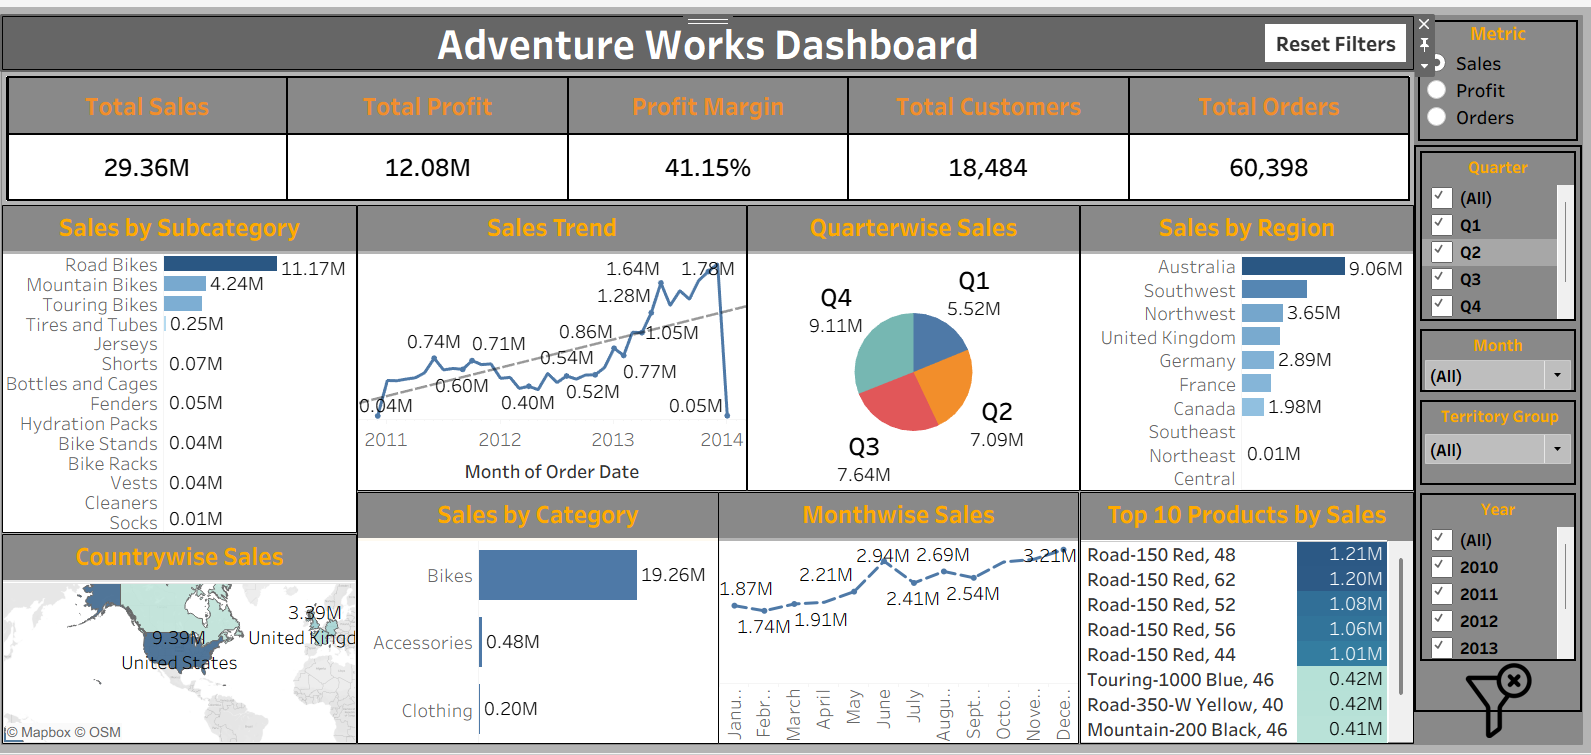

Layout of this report page (visuals, bound fields, positions):
{"tool":"tableau","page":{"name":"AW_DB","canvas":[1000,1000],"units":"permille","ordinal":0},"visuals":[{"type":"text","box":[5.6,12.1,884,72.4]},{"type":"parameter","param":"[Parameters].[Parameter 1]","box":[889.6,12.1,104.7,172.9]},{"type":"worksheet","title":"Reset filters","mark":"Automatic","box":[796,22.8,88.2,50.9]},{"type":"worksheet","title":"Kpi cards","mark":"Automatic","box":[5.6,87.1,884,178.8]},{"type":"filter","title":"Sales Trend","param":"[federated.0eba5g80qgu9aa12ndhzd0cw5a44].[qr:OrderDate:ok]","box":[890.9,187.7,102.2,234.6]},{"type":"worksheet","title":"Sales by subcategory","mark":"Automatic","rows":["EnglishProductSubcategoryName"],"cols":["Calculation_155655663429165056"],"box":[5.6,265.9,222,440.2]},{"type":"worksheet","title":"Sales Trend","mark":"Automatic","rows":["Calculation_155655663429165056"],"cols":["OrderDate"],"box":[227.6,265.9,244.2,383.9]},{"type":"worksheet","title":"Quarterwise Sales","mark":"Pie","box":[471.8,265.9,208.6,383.9]},{"type":"worksheet","title":"sales by Region","mark":"Automatic","rows":["SalesTerritoryRegion"],"cols":["Calculation_155655663429165056"],"box":[680.4,265.9,209.3,383.9]},{"type":"filter","title":"Sales Trend","param":"[federated.0eba5g80qgu9aa12ndhzd0cw5a44].[mn:OrderDate:ok]","box":[890.9,422.2,102.2,95.2]},{"type":"filter","title":"Sales Trend","param":"[federated.0eba5g80qgu9aa12ndhzd0cw5a44].[none:SalesTerritoryGroup:nk]","box":[890.9,517.4,102.2,124.7]},{"type":"filter","title":"Sales Trend","param":"[federated.0eba5g80qgu9aa12ndhzd0cw5a44].[yr:OrderDate:ok]","box":[890.9,642.1,102.2,234.6]},{"type":"worksheet","title":"Sales by category ","mark":"Automatic","rows":["EnglishProductCategoryName"],"cols":["Calculation_155655663429165056"],"box":[227.6,649.8,226.4,338.1]},{"type":"worksheet","title":"Monthwise Sales","mark":"Automatic","rows":["Calculation_155655663429165056"],"cols":["OrderDate"],"box":[454,649.8,226.3,338.1]},{"type":"worksheet","title":"Top 10 products","mark":"Square","rows":["ProductName (Product(Main Table))"],"box":[680.3,649.8,209.3,338.1]},{"type":"worksheet","title":"Countrywise Sales","mark":"Automatic","box":[5.6,706.1,222,281.8]},{"type":"dashboard-object","box":[894.9,879.4,94.5,100.5]}]}

Visuals, with their boxes on the dashboard's canvas, which has no fixed pixel size, in thousandths of its width and height (x1, y1, x2, y2). These are canvas units, not pixel positions in the 1591x755 screenshot, which may show the page scaled, cropped or inside an application window:
text: Rect(6, 12, 890, 84)
parameter: Rect(890, 12, 994, 185)
"Reset filters" worksheet: Rect(796, 23, 884, 74)
"Kpi cards" worksheet: Rect(6, 87, 890, 266)
"Sales Trend" filter: Rect(891, 188, 993, 422)
"Sales by subcategory" worksheet: Rect(6, 266, 228, 706)
"Sales Trend" worksheet: Rect(228, 266, 472, 650)
"Quarterwise Sales" worksheet (Pie marks): Rect(472, 266, 680, 650)
"sales by Region" worksheet: Rect(680, 266, 890, 650)
"Sales Trend" filter: Rect(891, 422, 993, 517)
"Sales Trend" filter: Rect(891, 517, 993, 642)
"Sales Trend" filter: Rect(891, 642, 993, 877)
"Sales by category " worksheet: Rect(228, 650, 454, 988)
"Monthwise Sales" worksheet: Rect(454, 650, 680, 988)
"Top 10 products" worksheet (Square marks): Rect(680, 650, 890, 988)
"Countrywise Sales" worksheet: Rect(6, 706, 228, 988)
dashboard-object: Rect(895, 879, 989, 980)
